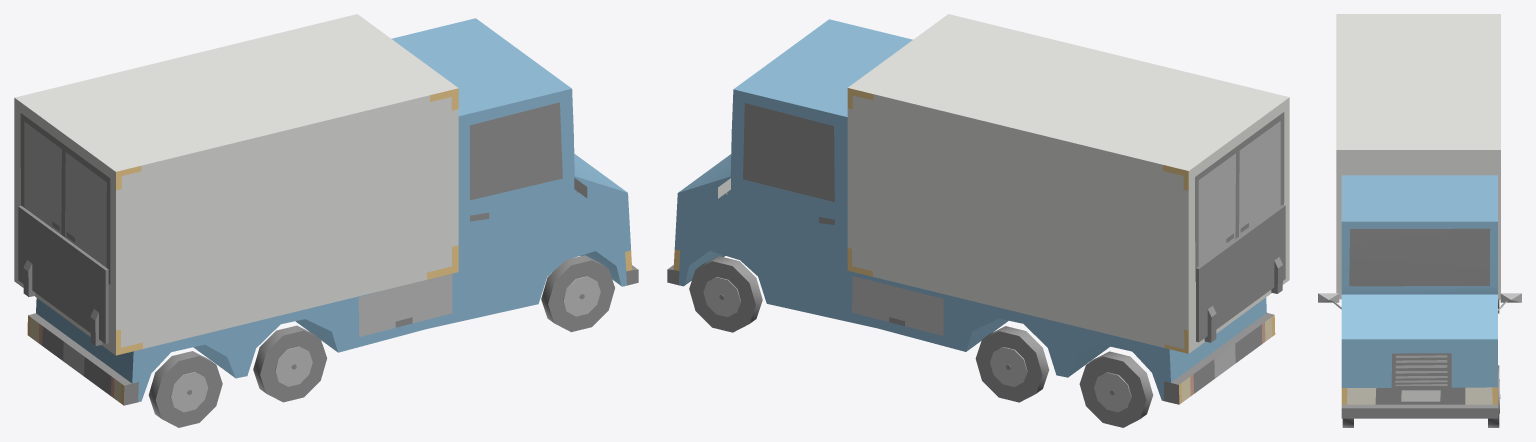
The model's file is truck9.fbx.
3 renders of one model, left to right at view 1: azimuth 30°, elevation 25°; view 2: azimuth 150°, elevation 25°; view 3: azimuth 270°, elevation 25°, orthographic. The views are drawn at different scales.
Parts seen in each view (by area): view 1: Cube_1, Cylinder, Cylinder_9, Cylinder_6; view 2: Cube_1, Cylinder_8, Cylinder_1, Cylinder_7; view 3: Cube_1, Cylinder_7.
Boxes of the visible parts, x1,y1,x2,y2 form: Cube_1: [14, 14, 638, 405]; Cylinder: [253, 325, 327, 402]; Cylinder_9: [148, 351, 222, 427]; Cylinder_6: [541, 255, 614, 332]; Cube_1: [667, 14, 1289, 404]; Cylinder_8: [1079, 351, 1153, 427]; Cylinder_1: [975, 326, 1049, 402]; Cylinder_7: [689, 256, 762, 332]; Cube_1: [1318, 14, 1521, 418]; Cylinder_7: [1488, 365, 1500, 427].
Bounding box in the file's own units: 607 × 300 × 247.
